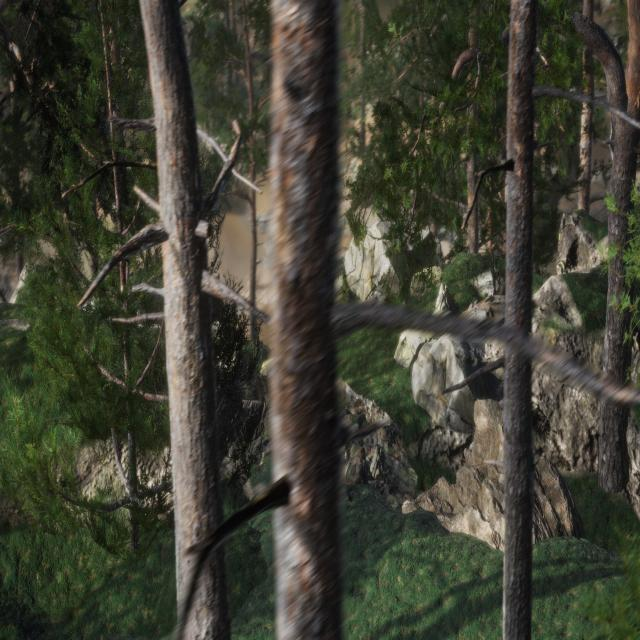Human: (394, 288, 410, 330)
